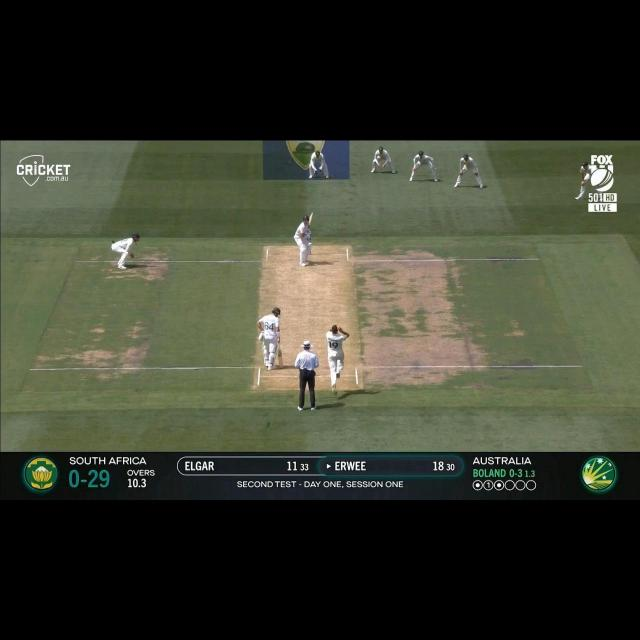bat: (278, 349, 284, 369), (308, 212, 313, 226)
toe: (278, 365, 284, 368), (310, 212, 314, 215)
